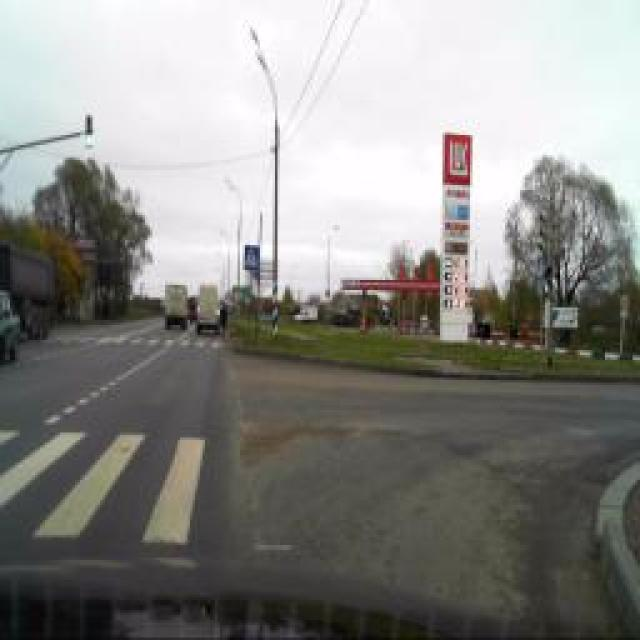sign: (244, 245, 258, 270), (536, 255, 546, 280)
